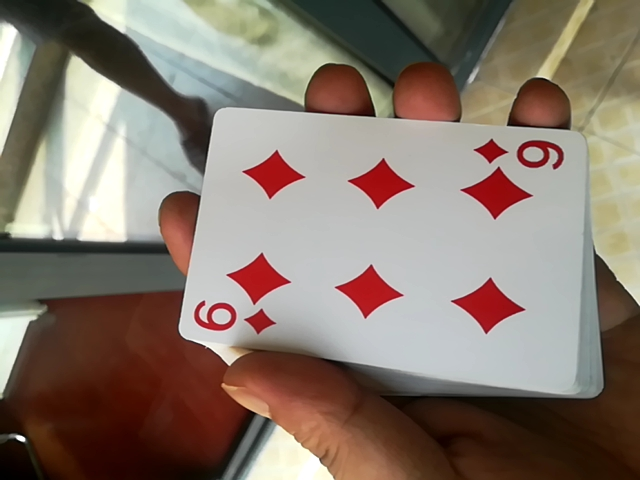fk 6: (150, 97, 607, 398)
